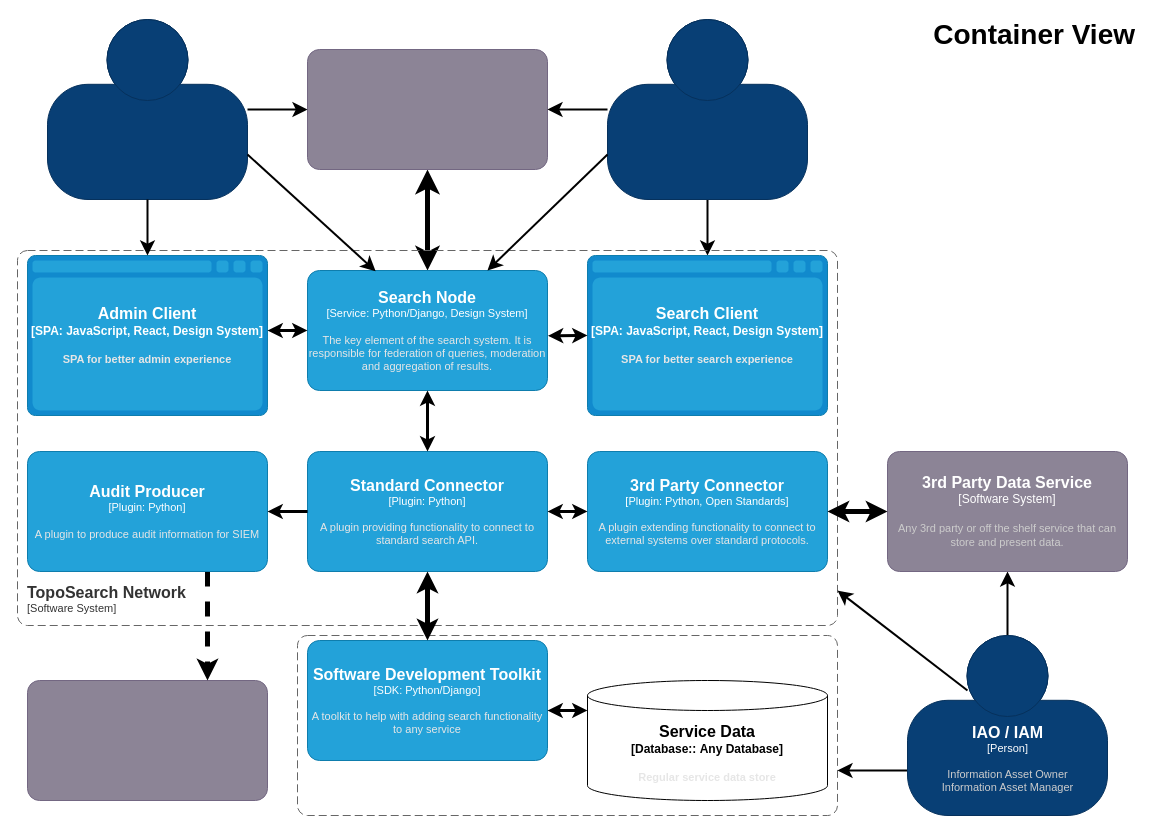
The diagram is 1155 pixels wide and 833 high, and some of its shapes have lost their labels. The shapes that lost their labels are listed below. From the top down, each one's box as (x1, y1, x2, y2) in pixels, then its label:
(46, 18, 248, 200): Search Administrator [Person] Admins of the Search Network
(306, 48, 548, 170): Identity Provider [Software System] An identity provider system
(606, 18, 808, 200): Searcher [Person] Person searching for information
(26, 680, 268, 800): SIEM [Software System] Security Information and Event Management System
(296, 634, 838, 816): Data Service [Software System]
